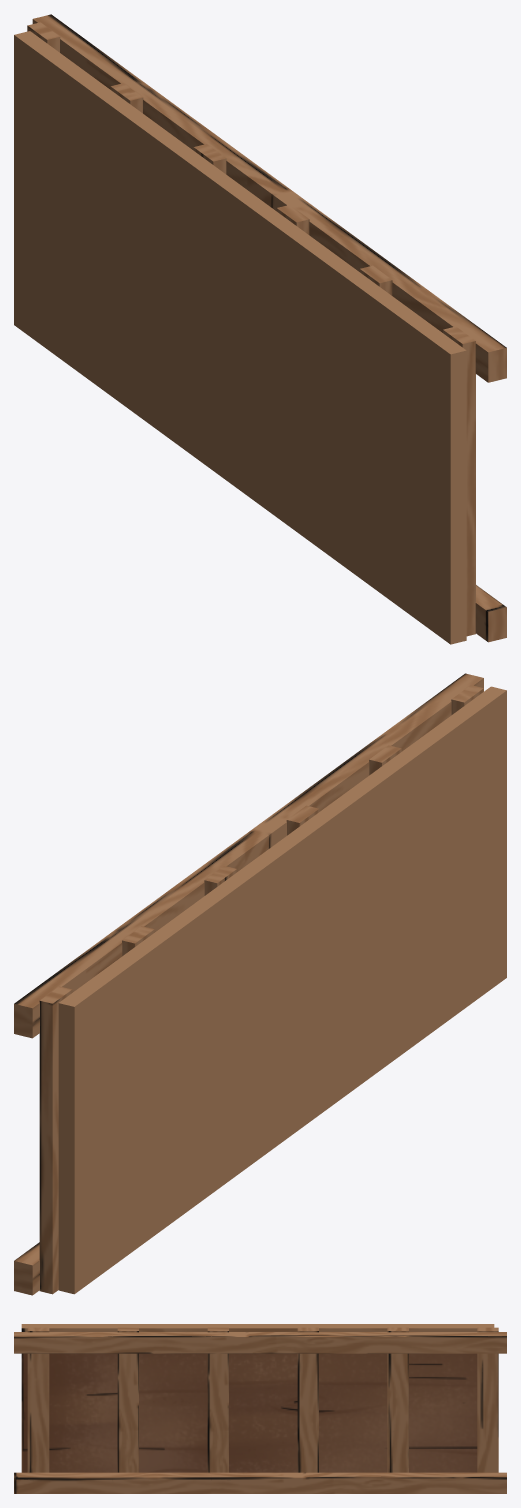
Rendered from Cama y colchonV2.fbx.
3 views of the same model, one above another, from view 1: azimuth 30°, elevation 25°; view 2: azimuth 150°, elevation 25°; view 3: azimuth 270°, elevation 25° (orthographic). The views are drawn at different scales.
Visible parts, largest first — view 1: Cube.006; view 2: Cube.006; view 3: Cube.006.
Part boxes in pixels (box(x1,y1,x2,y2)): Cube.006: box(14, 14, 506, 644); Cube.006: box(14, 673, 506, 1295); Cube.006: box(14, 1324, 506, 1493).
Size of the model in its own units: 12.18 by 69.31 by 195.
